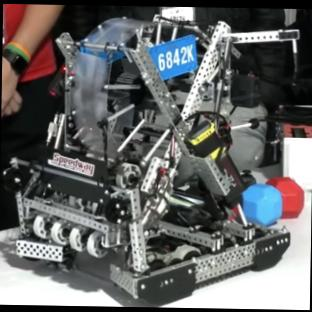Robot: (4, 17, 298, 302)
V5_BLUE: (243, 181, 281, 222)
V5_RED: (280, 173, 301, 216)
